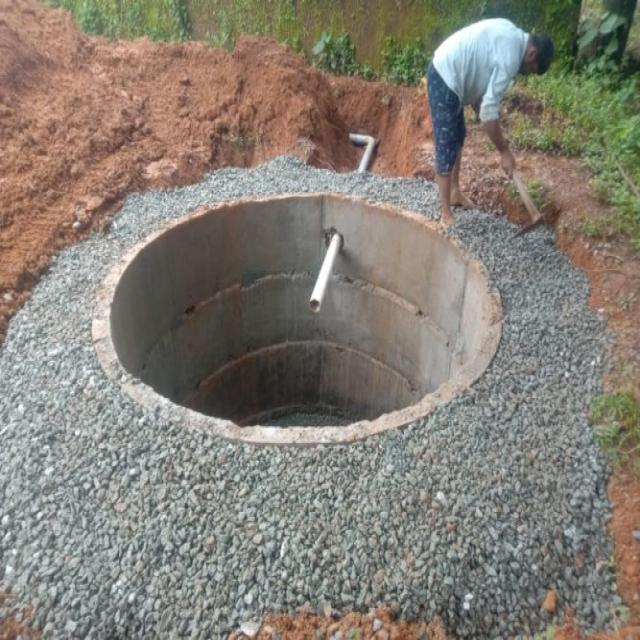hole: (94, 176, 521, 458)
